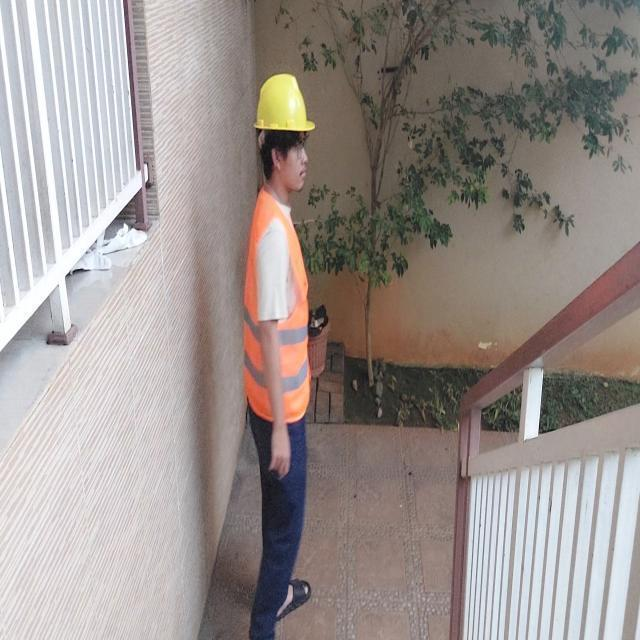Capacete: (254, 74, 314, 131)
Colete: (244, 188, 309, 422)
Pessoa: (244, 74, 314, 639)
